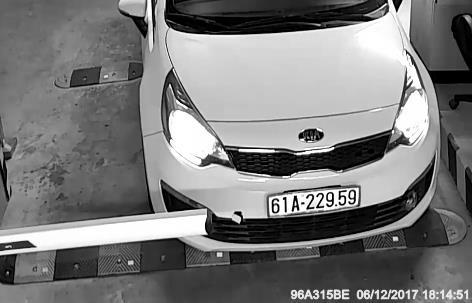License-plate: (260, 189, 369, 221)
